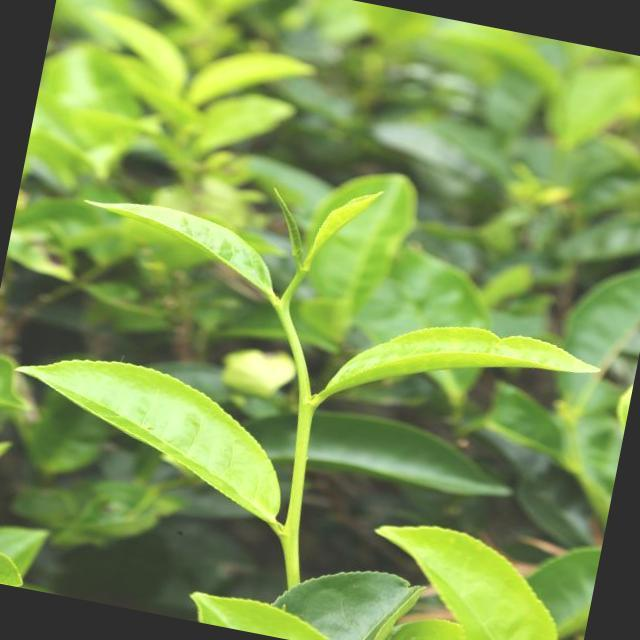Stem: (299, 397, 315, 417)
